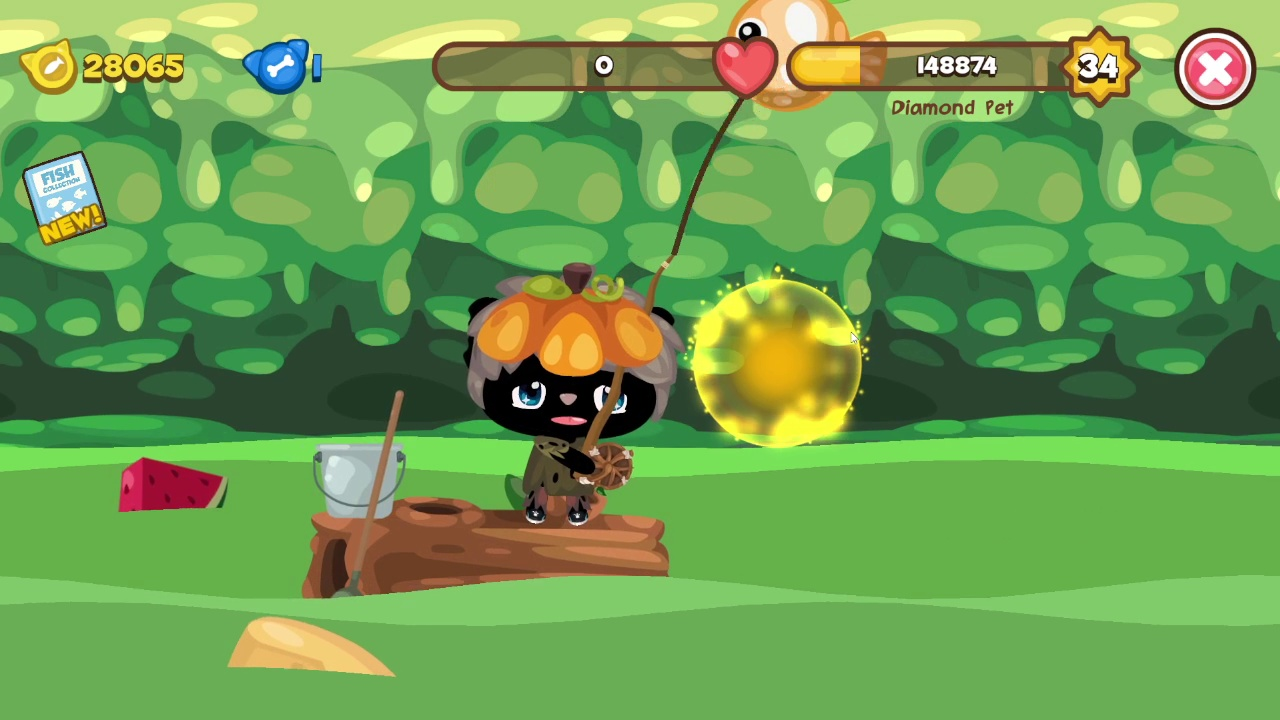point: (688, 273, 870, 448)
